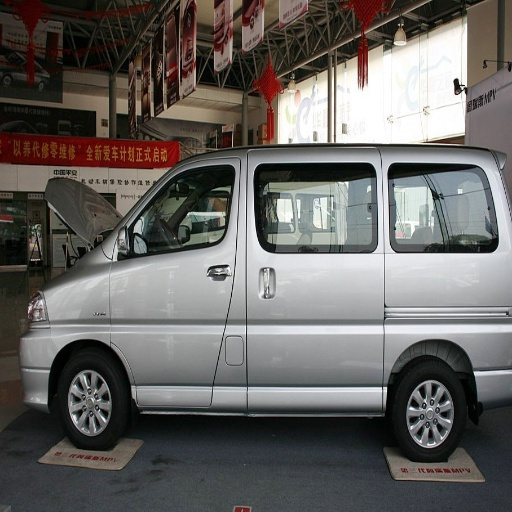trunk: (204, 259, 381, 401), (394, 310, 510, 403)
